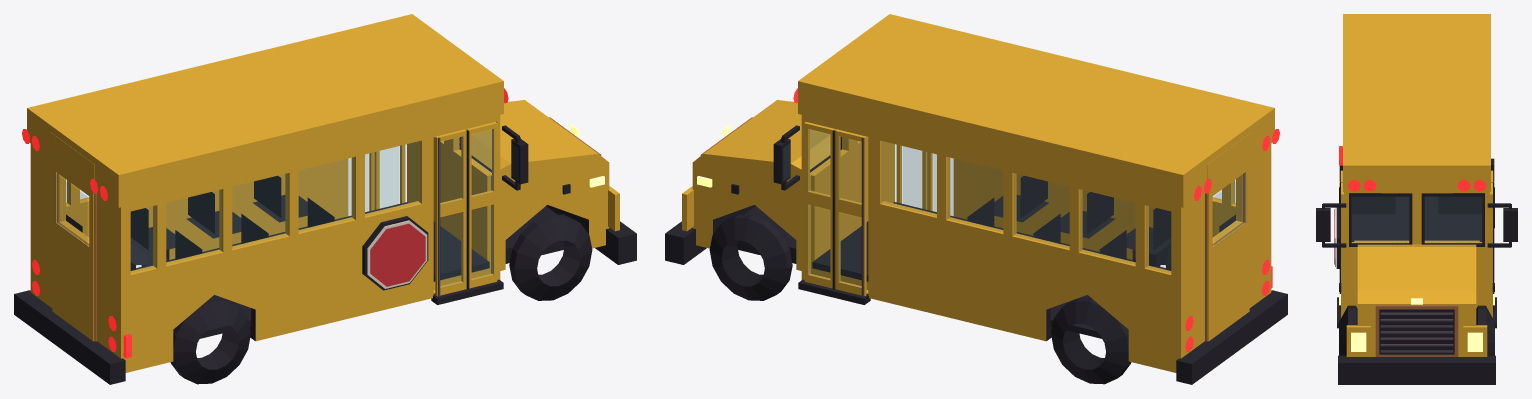
The picture shows the model from 3 angles, left to right: view 1: azimuth 30°, elevation 25°; view 2: azimuth 150°, elevation 25°; view 3: azimuth 270°, elevation 25°; orthographic projection. The views are drawn at different scales.
Visible parts, largest first — view 1: body:pal_schoolBusYellow, body:pal_backpackTeal, bonnet_pal_schoolBusYellow, body:pal_uiDark, chassis_pal_uiDark, wheelFR:pal_uiDark, doorRear:pal_schoolBusYellow, wheelRR:pal_uiDark, door_near_0:pal_backpackTeal, door_near_1:pal_backpackTeal, stop_paddle:pal_survivorRed, door_near_0:pal_schoolBusYellow (+8 smaller); view 2: body:pal_schoolBusYellow, body:pal_backpackTeal, bonnet_pal_schoolBusYellow, body:pal_uiDark, chassis_pal_uiDark, wheelFL:pal_uiDark, doorRear:pal_schoolBusYellow, wheelRL:pal_uiDark, door_far_0:pal_backpackTeal, door_far_1:pal_backpackTeal, door_far_0:pal_schoolBusYellow, door_far_1:pal_schoolBusYellow (+4 smaller); view 3: body:pal_schoolBusYellow, bonnet_pal_schoolBusYellow, body:pal_uiDark, body:pal_backpackTeal, chassis_pal_uiDark, bonnet_pal_uiDark, bonnet_pal_asphalt, bonnet_pal_woodWarm, headlamp_lens, body:emi_sirenRed, wheelFL:pal_uiDark, wheelFR:pal_uiDark (+5 smaller).
Part boxes in pixels (bbox=[...]): body:pal_schoolBusYellow: bbox=[27, 14, 503, 372]; body:pal_backpackTeal: bbox=[66, 130, 517, 272]; bonnet_pal_schoolBusYellow: bbox=[465, 100, 619, 270]; body:pal_uiDark: bbox=[66, 125, 528, 338]; chassis_pal_uiDark: bbox=[14, 206, 636, 384]; wheelFR:pal_uiDark: bbox=[509, 214, 592, 300]; doorRear:pal_schoolBusYellow: bbox=[52, 161, 94, 341]; wheelRR:pal_uiDark: bbox=[170, 297, 250, 384]; door_near_0:pal_backpackTeal: bbox=[441, 137, 463, 287]; door_near_1:pal_backpackTeal: bbox=[473, 130, 493, 279]; stop_paddle:pal_survivorRed: bbox=[370, 223, 425, 286]; door_near_0:pal_schoolBusYellow: bbox=[435, 129, 466, 296]; body:pal_schoolBusYellow: bbox=[798, 14, 1274, 372]; body:pal_backpackTeal: bbox=[784, 130, 1235, 272]; bonnet_pal_schoolBusYellow: bbox=[682, 100, 836, 270]; body:pal_uiDark: bbox=[773, 125, 1235, 338]; chassis_pal_uiDark: bbox=[665, 206, 1287, 384]; wheelFL:pal_uiDark: bbox=[709, 214, 792, 300]; doorRear:pal_schoolBusYellow: bbox=[1207, 161, 1249, 341]; wheelRL:pal_uiDark: bbox=[1051, 297, 1131, 384]; door_far_0:pal_backpackTeal: bbox=[838, 137, 860, 287]; door_far_1:pal_backpackTeal: bbox=[808, 130, 828, 279]; door_far_0:pal_schoolBusYellow: bbox=[835, 129, 866, 296]; door_far_1:pal_schoolBusYellow: bbox=[804, 122, 835, 288]; body:pal_schoolBusYellow: bbox=[1343, 14, 1490, 312]; bonnet_pal_schoolBusYellow: bbox=[1346, 244, 1487, 356]; body:pal_uiDark: bbox=[1316, 193, 1517, 328]; body:pal_backpackTeal: bbox=[1352, 197, 1481, 243]; chassis_pal_uiDark: bbox=[1338, 158, 1495, 384]; bonnet_pal_uiDark: bbox=[1339, 283, 1494, 354]; bonnet_pal_asphalt: bbox=[1380, 312, 1453, 352]; bonnet_pal_woodWarm: bbox=[1375, 305, 1458, 356]; headlamp_lens: bbox=[1351, 332, 1482, 351]; body:emi_sirenRed: bbox=[1339, 146, 1486, 191]; wheelFL:pal_uiDark: bbox=[1476, 305, 1494, 355]; wheelFR:pal_uiDark: bbox=[1339, 305, 1357, 355].
Bounding box in the file's own units: 8.74 × 3.72 × 3.6.
